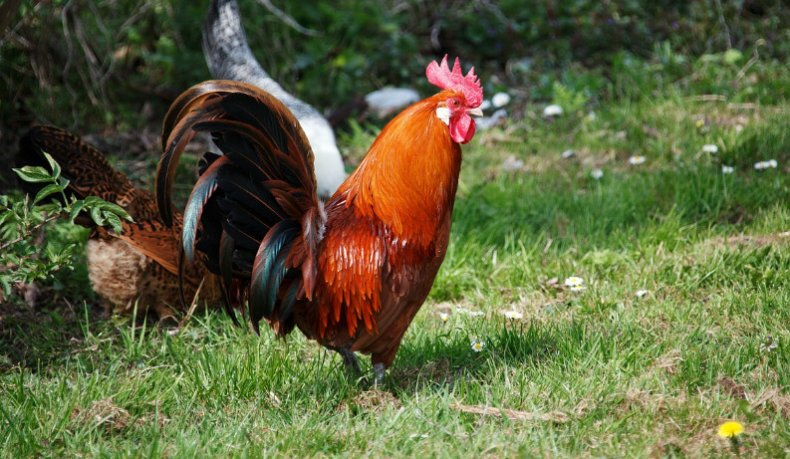chicken: (152, 50, 488, 400)
